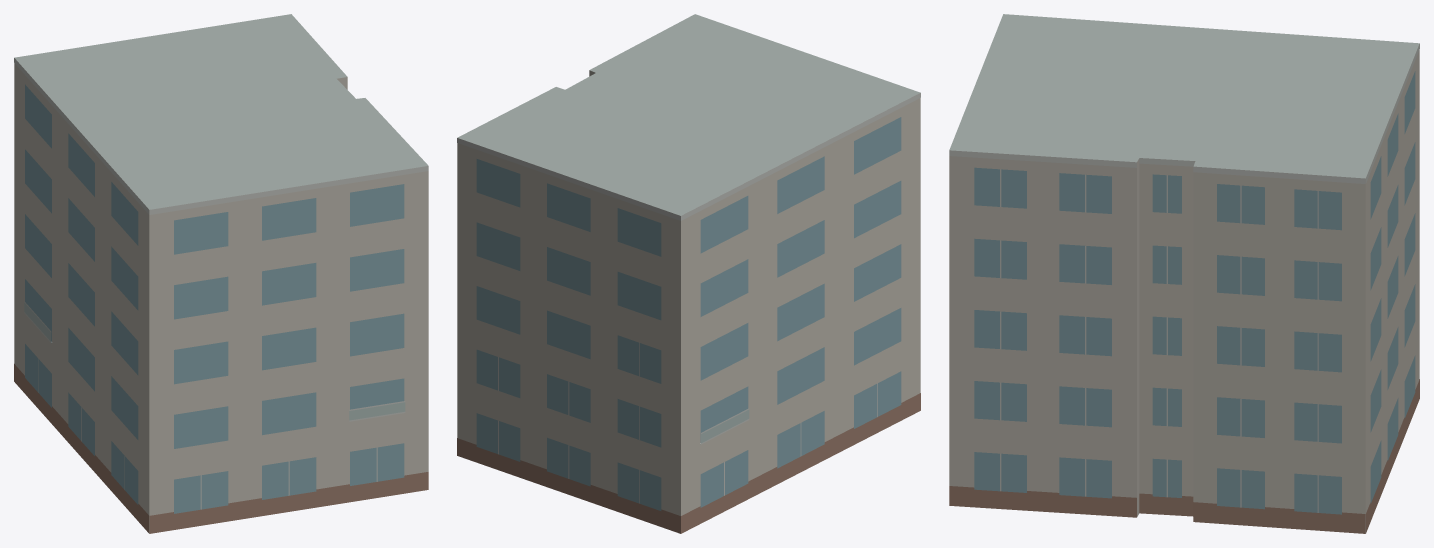
Rendered from survey-upis-32614782.glb.
3 renders of one model, left to right at view 1: azimuth 30°, elevation 25°; view 2: azimuth 150°, elevation 25°; view 3: azimuth 270°, elevation 25°, orthographic. The views are drawn at different scales.
Visible parts, largest first — view 1: survey-upis-32614782.tmp; view 2: survey-upis-32614782.tmp; view 3: survey-upis-32614782.tmp.
Boxes of the visible parts, bbox=[...] form: survey-upis-32614782.tmp: bbox=[14, 14, 428, 533]; survey-upis-32614782.tmp: bbox=[457, 14, 920, 533]; survey-upis-32614782.tmp: bbox=[949, 14, 1419, 533].
Bounding box in the file's own units: 15.19 × 15.3 × 18.37.
